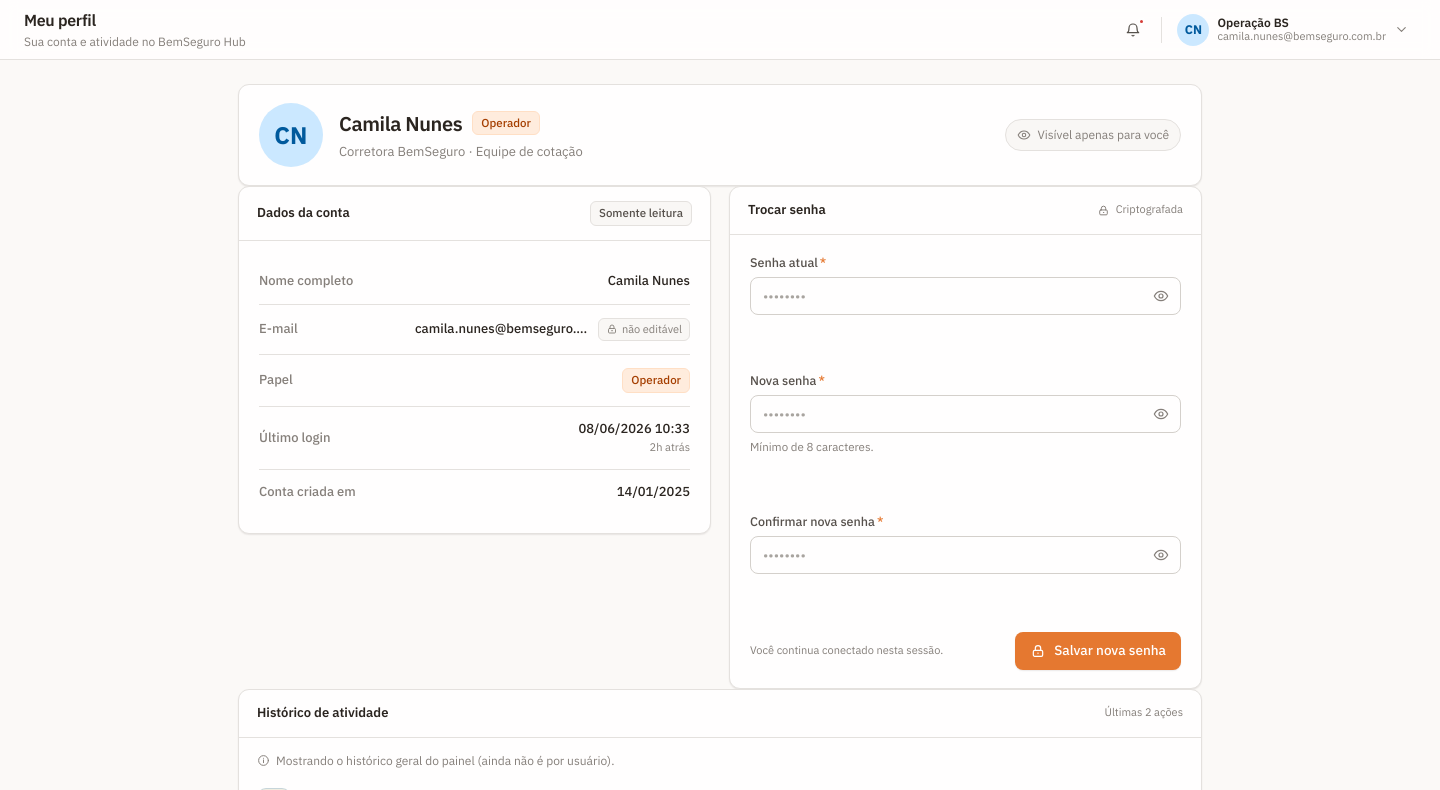
Test: MeuPerfil › a troca de senha valida os campos antes de enviar
Expected: the text "Visível apenas para você" is shown, [1006,119,1181,151]
Type "atual123" into the password field named "Senha atual" at (966, 296), box [750,277,1181,315]
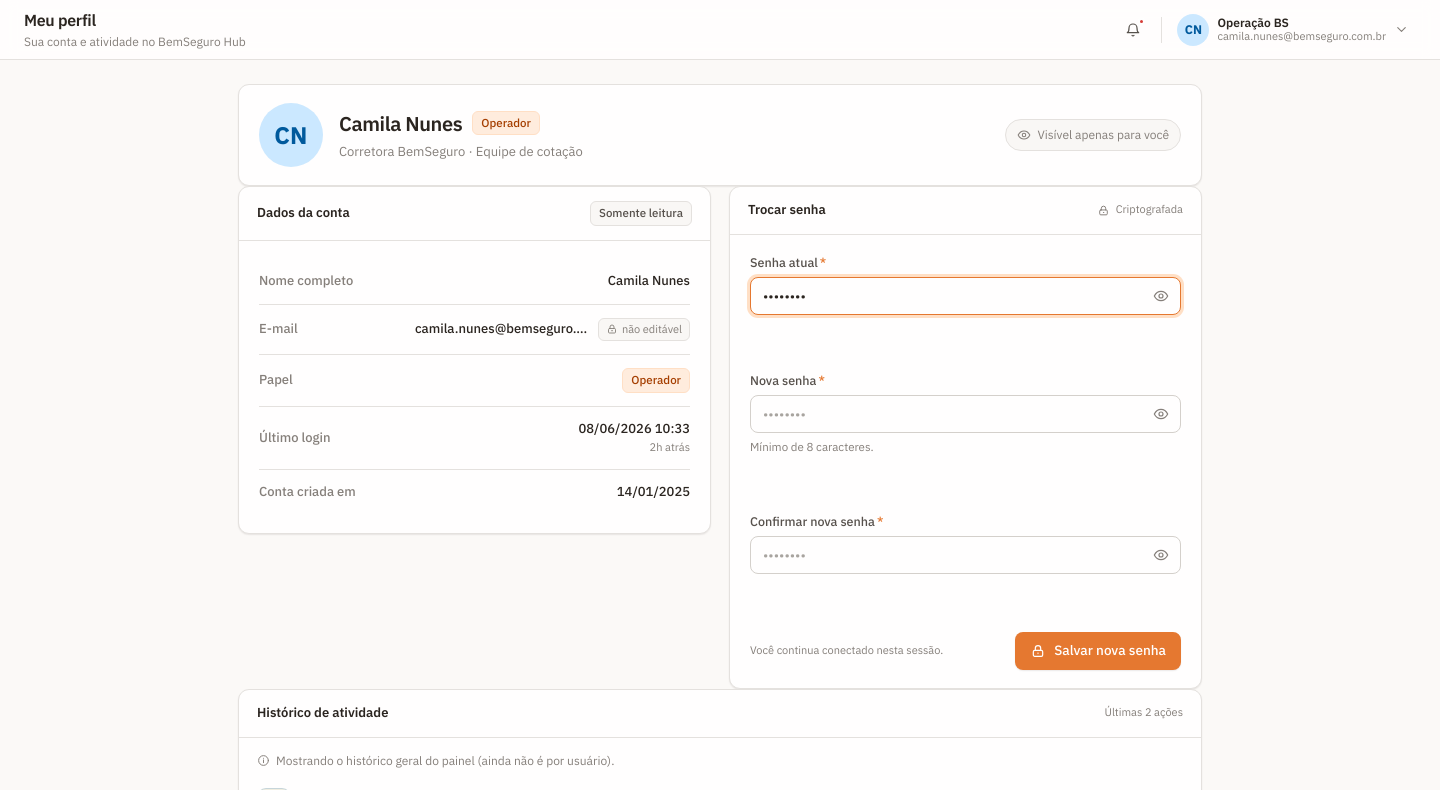
Type "curta" into the password field named "Nova senha" at (966, 414), box [750,395,1181,433]
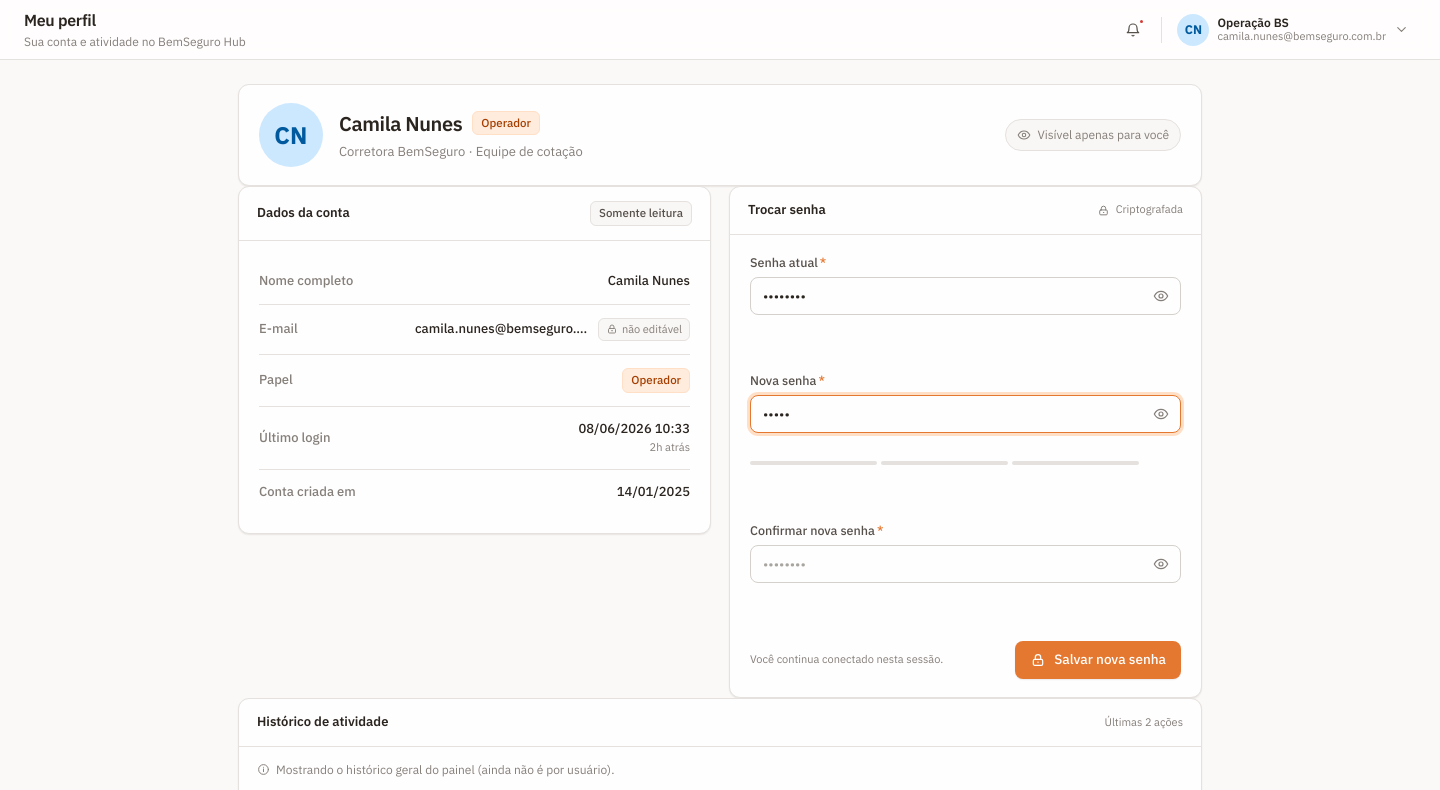
Type "curta" into the password field named "Confirmar nova senha" at (966, 564), box [750,545,1181,583]
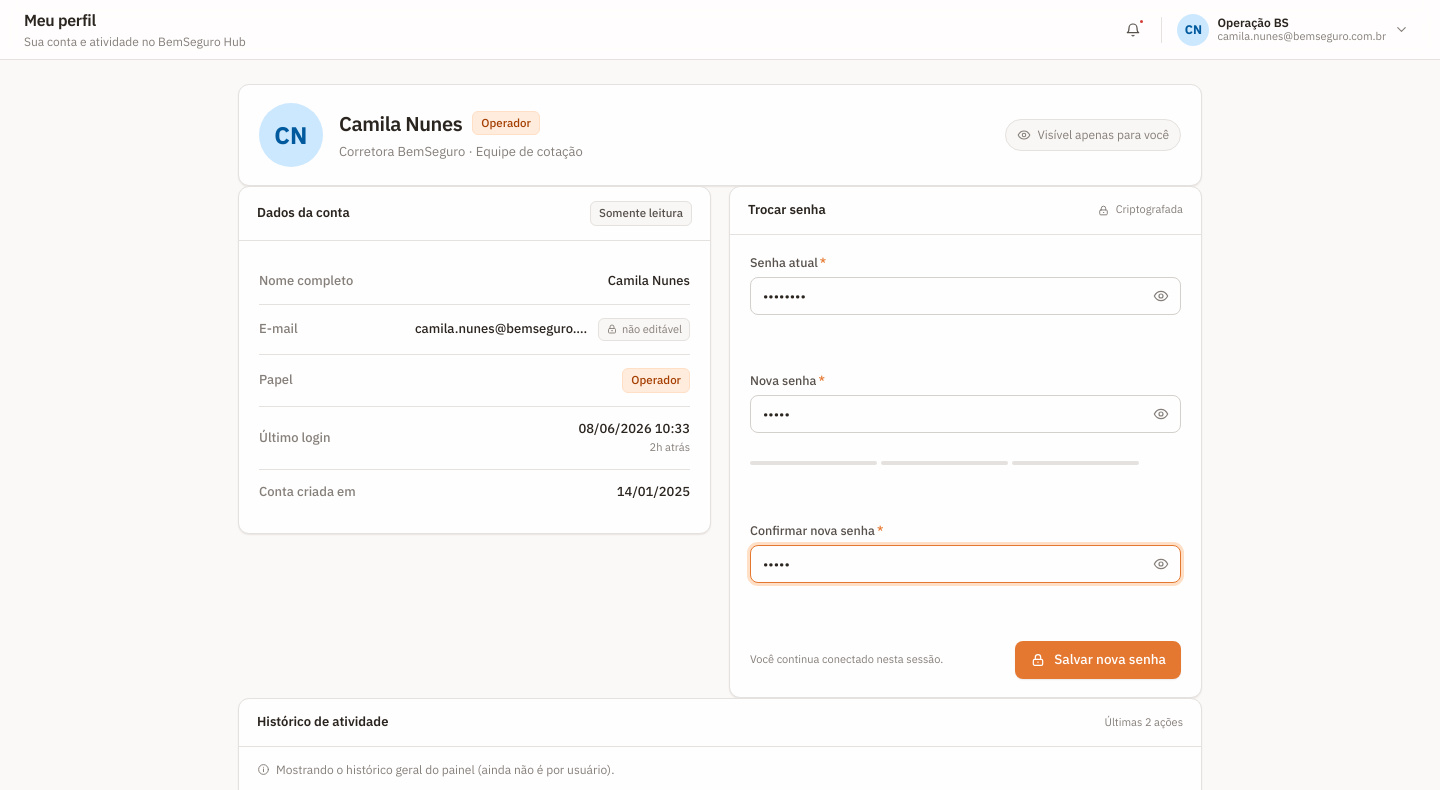
Click the button "Salvar nova senha" at (1098, 660), box [1015,641,1181,679]
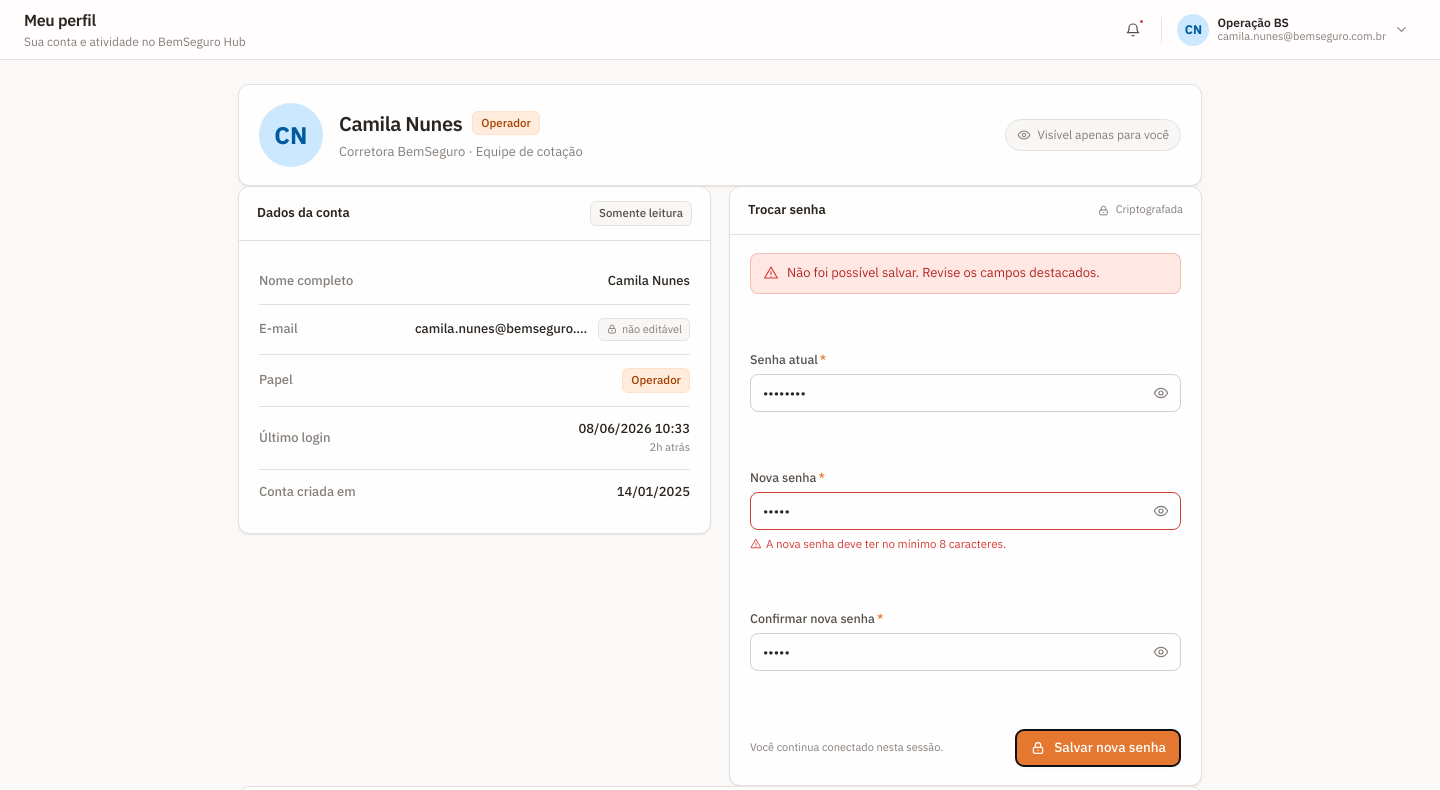
Result: the text "A nova senha deve ter no mínimo 8 caracteres." is shown at [750,536,1006,551]
